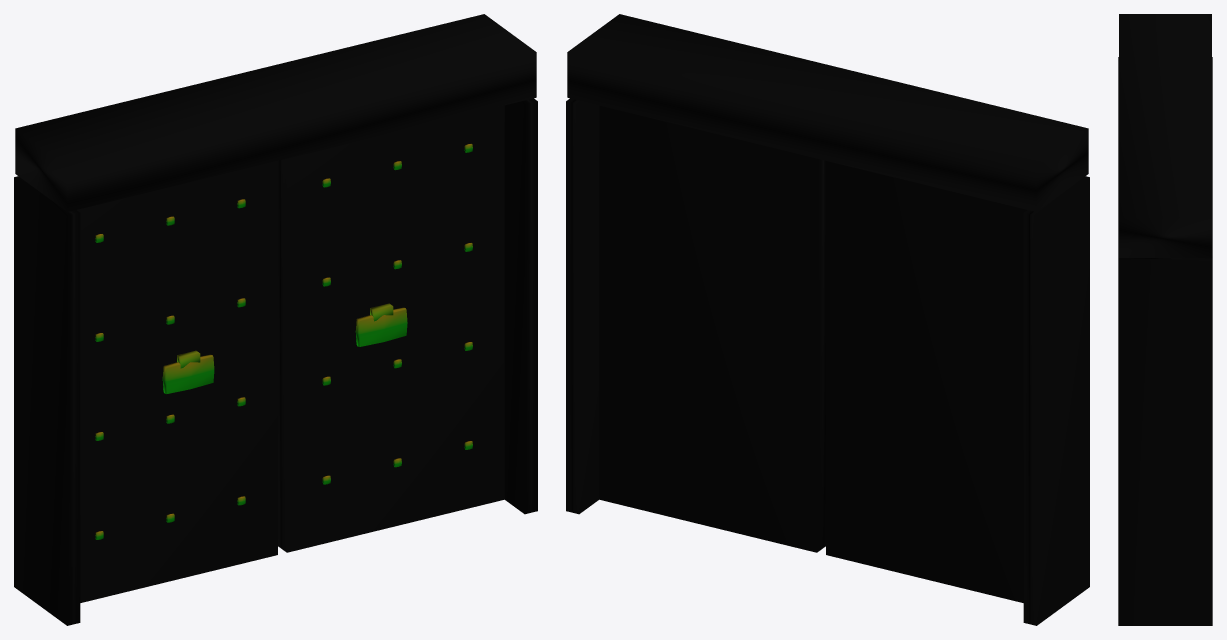
File: chamber_door.glb
3 renders of one model, left to right at view 1: azimuth 30°, elevation 25°; view 2: azimuth 150°, elevation 25°; view 3: azimuth 270°, elevation 25°, orthographic. The views are drawn at different scales.
Parts seen in each view (by area): view 1: chamber_door; view 2: chamber_door; view 3: chamber_door.
Boxes of the visible parts, box(x1,y1,x2,y2) form: chamber_door: box(14, 14, 537, 625); chamber_door: box(566, 14, 1089, 625); chamber_door: box(1118, 14, 1212, 625).
Size of what is drawn, in the model's own units: 2.98 by 2.78 by 0.5831.
